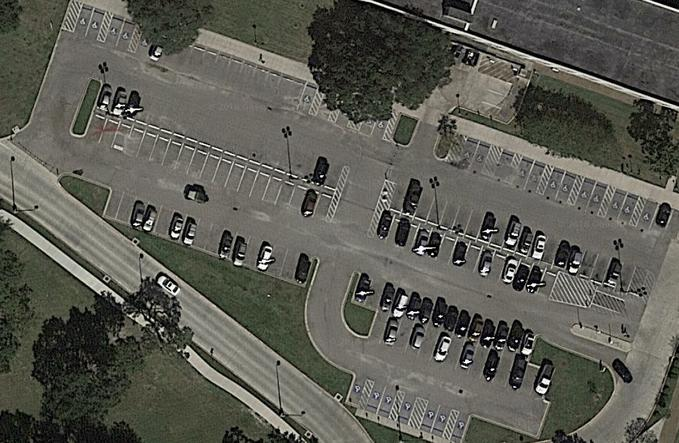parkingspot: (387, 181, 639, 297), (81, 111, 335, 225), (93, 79, 347, 192), (101, 186, 317, 289), (371, 209, 562, 303), (366, 309, 557, 402), (351, 271, 541, 361), (133, 32, 321, 117), (634, 197, 679, 247), (477, 76, 514, 123), (603, 186, 642, 229), (509, 154, 548, 196), (455, 135, 493, 177), (541, 165, 579, 207), (573, 175, 610, 218), (363, 381, 400, 421), (103, 12, 139, 53), (71, 2, 107, 43), (418, 399, 454, 440), (489, 148, 517, 185), (395, 391, 419, 428), (357, 119, 391, 141), (449, 411, 472, 443), (346, 375, 369, 407), (314, 95, 333, 123), (333, 109, 351, 129)
